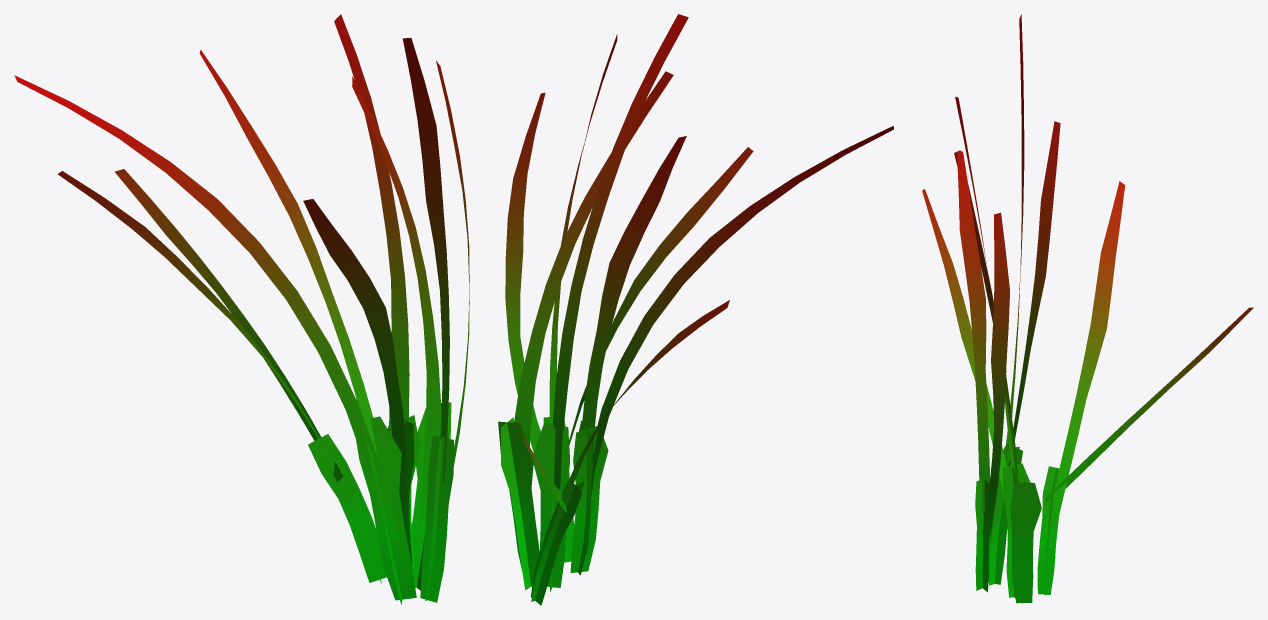
Rendered from SM_Marram_Grass_02.FBX.
The picture shows the model from 3 angles, left to right: view 1: azimuth 30°, elevation 25°; view 2: azimuth 150°, elevation 25°; view 3: azimuth 270°, elevation 25°; orthographic projection. The views are drawn at different scales.
Parts seen in each view (by area): view 1: SM_Marram_Grass_02; view 2: SM_Marram_Grass_02; view 3: SM_Marram_Grass_02.
Part boxes in pixels (<box>): SM_Marram_Grass_02: <box>14,14,469,604</box>; SM_Marram_Grass_02: <box>498,14,893,605</box>; SM_Marram_Grass_02: <box>922,14,1253,603</box>.
Bounding box in the file's own units: 24.26 × 21.54 × 33.22.
